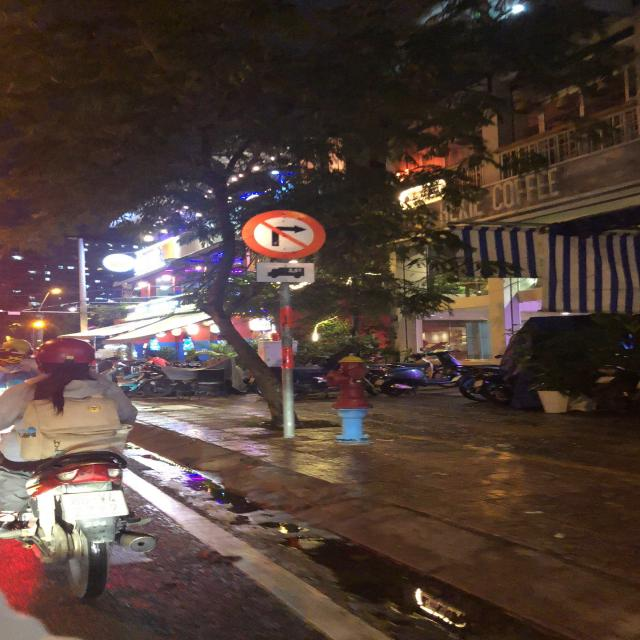Bien bao cam re phai: (237, 208, 328, 262)
